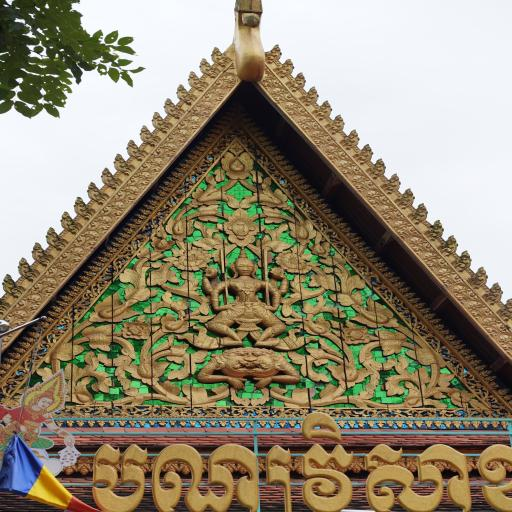hoa: (216, 150, 261, 182), (221, 211, 259, 247), (276, 248, 312, 277), (172, 248, 211, 274), (339, 323, 375, 349), (117, 320, 157, 343)
la: (442, 277, 472, 302), (423, 216, 450, 242), (331, 154, 359, 178), (416, 249, 447, 270), (318, 140, 346, 163), (385, 215, 413, 238), (362, 188, 391, 210), (264, 82, 291, 105), (100, 198, 128, 220), (17, 288, 43, 311), (431, 265, 460, 285), (291, 114, 318, 135), (304, 125, 332, 145), (400, 234, 428, 254), (461, 298, 489, 318), (477, 311, 503, 332), (6, 307, 30, 329), (48, 257, 72, 279), (158, 141, 182, 163), (280, 99, 304, 120), (348, 172, 372, 193), (258, 72, 283, 92), (35, 274, 57, 296), (129, 168, 152, 189), (495, 326, 512, 354), (147, 152, 168, 174), (90, 213, 113, 233), (373, 200, 398, 218), (78, 228, 98, 250), (203, 84, 225, 102), (59, 247, 82, 264), (119, 184, 138, 204), (183, 116, 203, 133), (190, 98, 211, 114), (168, 127, 185, 146), (216, 74, 236, 89)
lua: (222, 0, 274, 85), (448, 245, 478, 277), (54, 210, 82, 237), (393, 186, 420, 214), (171, 83, 199, 108), (377, 168, 401, 197), (0, 273, 25, 299), (438, 230, 462, 257), (104, 154, 132, 177), (96, 163, 118, 192), (39, 226, 64, 251), (132, 124, 157, 149), (28, 240, 52, 266), (308, 92, 330, 120), (71, 194, 91, 224), (294, 82, 319, 106), (280, 68, 307, 90), (410, 198, 432, 225), (469, 262, 491, 289), (82, 183, 106, 207), (184, 72, 210, 94), (123, 138, 143, 166), (196, 59, 225, 78), (484, 279, 506, 304), (355, 140, 374, 168), (18, 256, 40, 280), (143, 109, 167, 131), (261, 41, 282, 66), (326, 112, 345, 139), (341, 126, 360, 153), (270, 55, 292, 78), (368, 157, 388, 181), (159, 95, 182, 115), (210, 46, 230, 68), (499, 293, 512, 324)
than: (198, 250, 302, 349), (0, 367, 82, 470)
